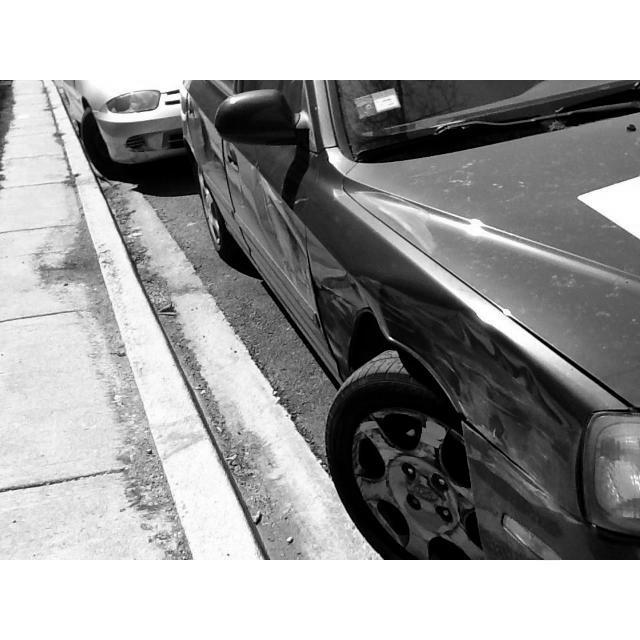fender-dent: (361, 225, 590, 453)
